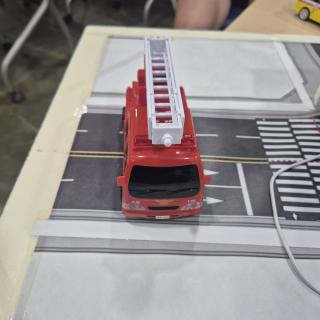Fire_truck: (117, 37, 211, 220)
